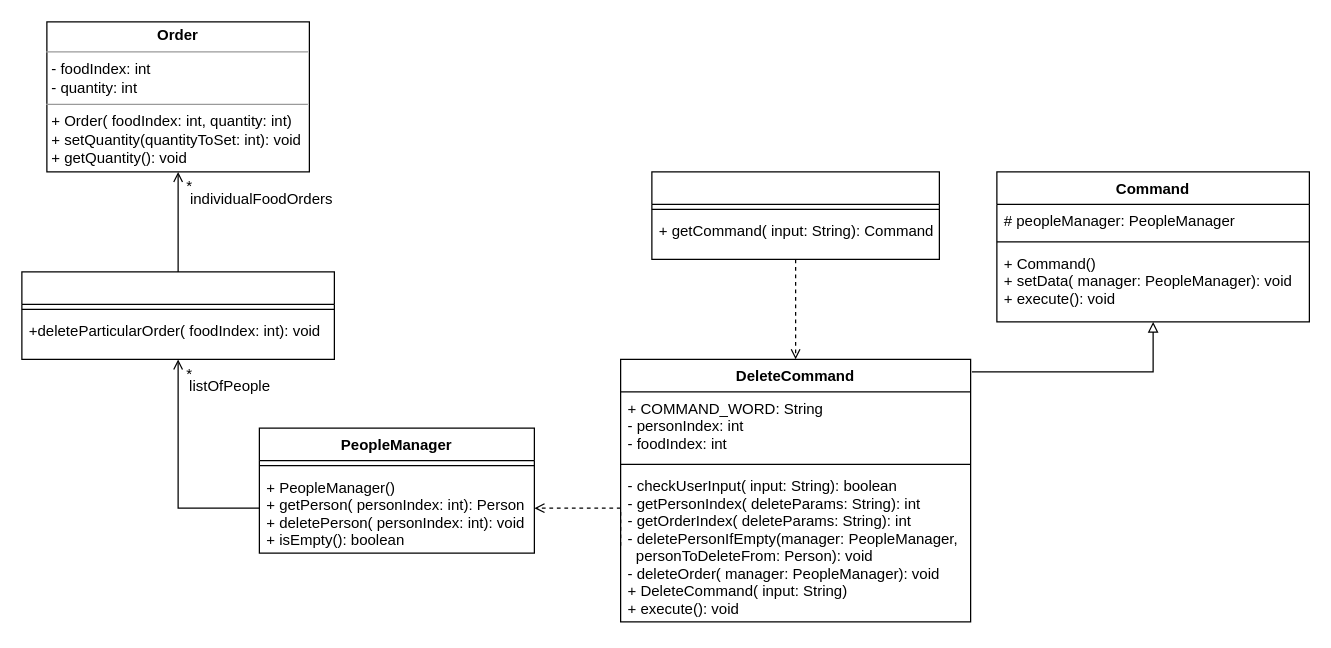
Some shapes in this 1331 by 648 pixel diagram are drawn without their labels. The shapes that lost their labels are listed below. From the top down, each one's box as (x1, y1, x2, y2) in pixels, then its label:
(651, 171, 939, 259): Parser
(21, 271, 334, 359): Person
